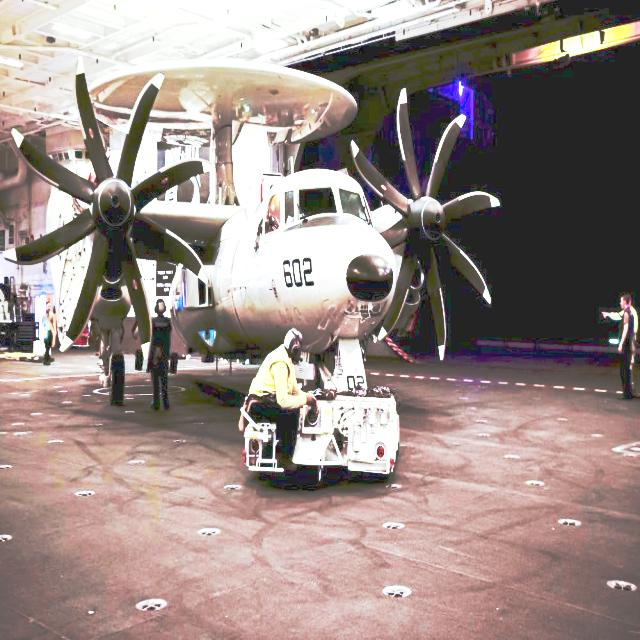Aircraft: (0, 48, 503, 408)
